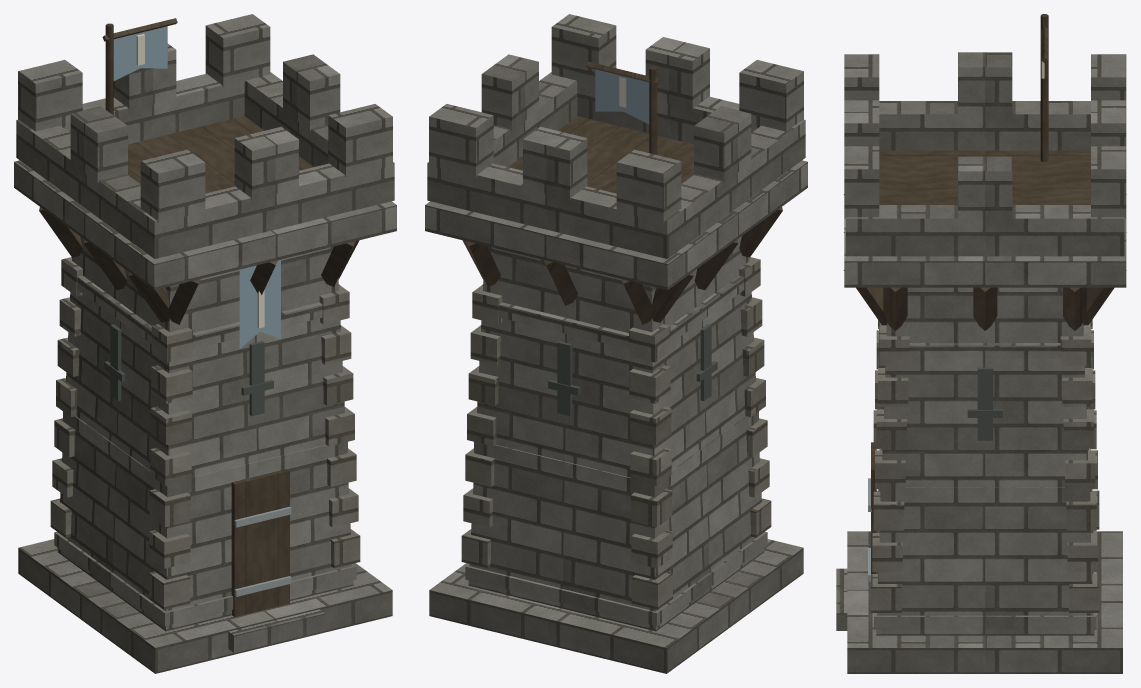
Rendered from tower.gltf.
The picture shows the model from 3 angles, left to right: view 1: azimuth 30°, elevation 25°; view 2: azimuth 150°, elevation 25°; view 3: azimuth 270°, elevation 25°; orthographic projection.
Parts seen in each view (by area): view 1: AdvancedBuilding_tower; view 2: AdvancedBuilding_tower; view 3: AdvancedBuilding_tower.
Boxes of the visible parts, x1,y1,x2,y2 form: AdvancedBuilding_tower: (14,14,396,673); AdvancedBuilding_tower: (425,14,807,673); AdvancedBuilding_tower: (836,14,1126,673).
Bounding box in the file's own units: 1.77 × 3.91 × 1.81.
4 materials, 2 textured.
